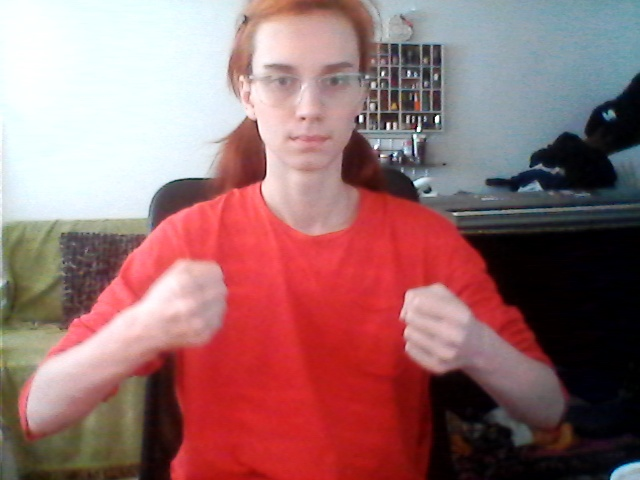auto: (148, 252, 495, 396)
